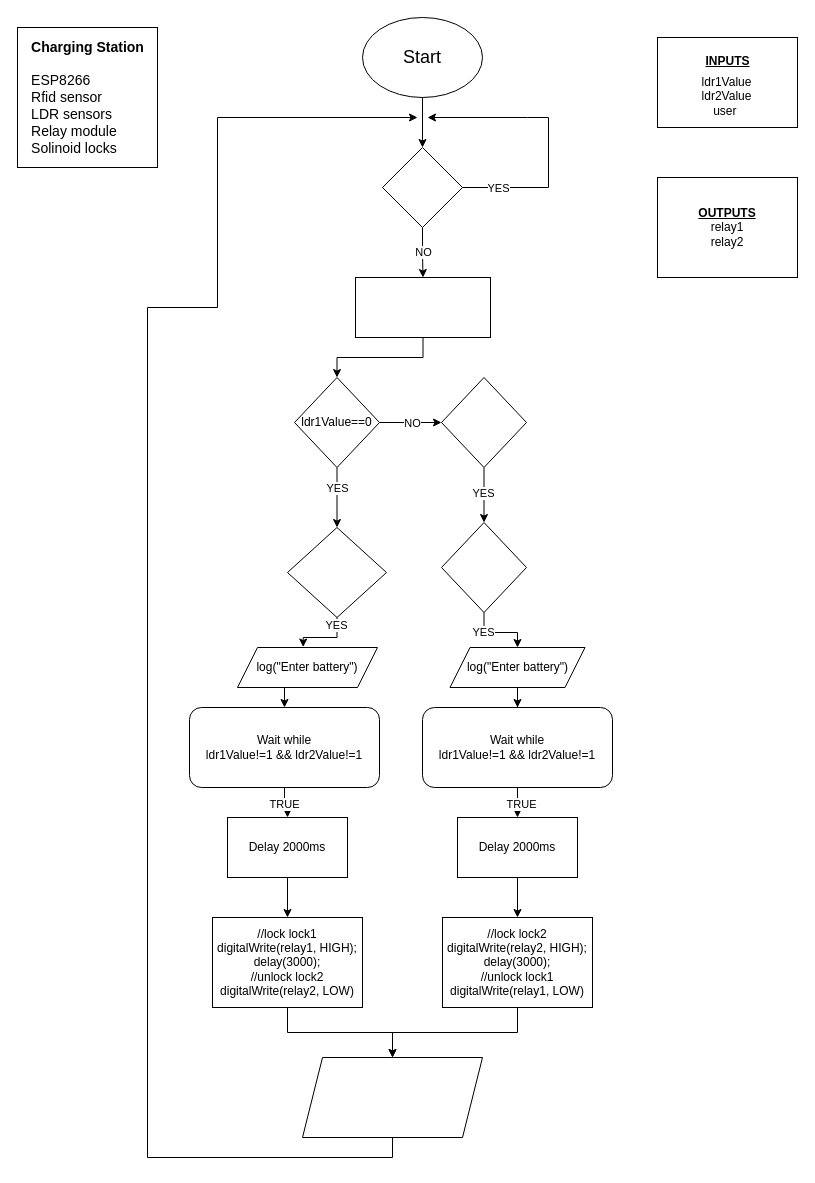
Some shapes in this 815 by 1183 pixel diagram are drawn without their labels. Each missing label, with the box of its shape:
ldr1Value==1: (440, 376, 526, 468)
ldr2Value==0: (440, 522, 526, 612)
ldr2Value==1: (286, 526, 386, 618)
log("Remove battery"); log("Successful");: (302, 1056, 482, 1138)
Read the values from the LDR sensors: (354, 276, 490, 338)
user=null: (382, 146, 462, 228)
